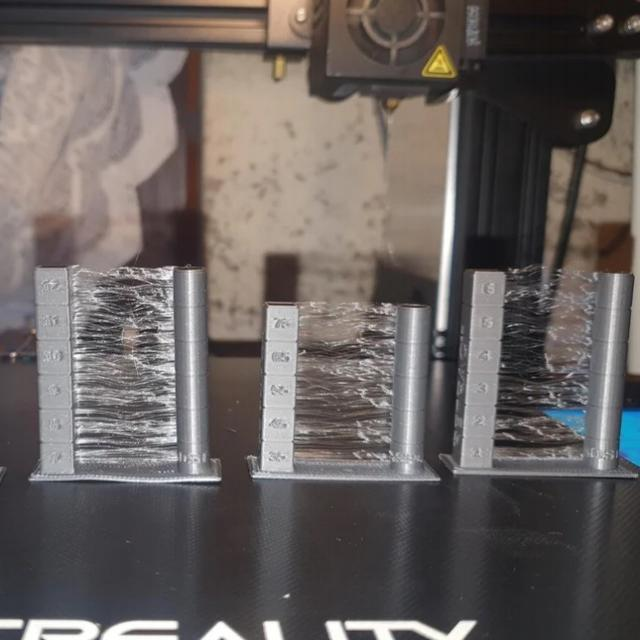Stringing: (63, 263, 186, 473), (498, 266, 600, 471), (297, 300, 399, 473)
